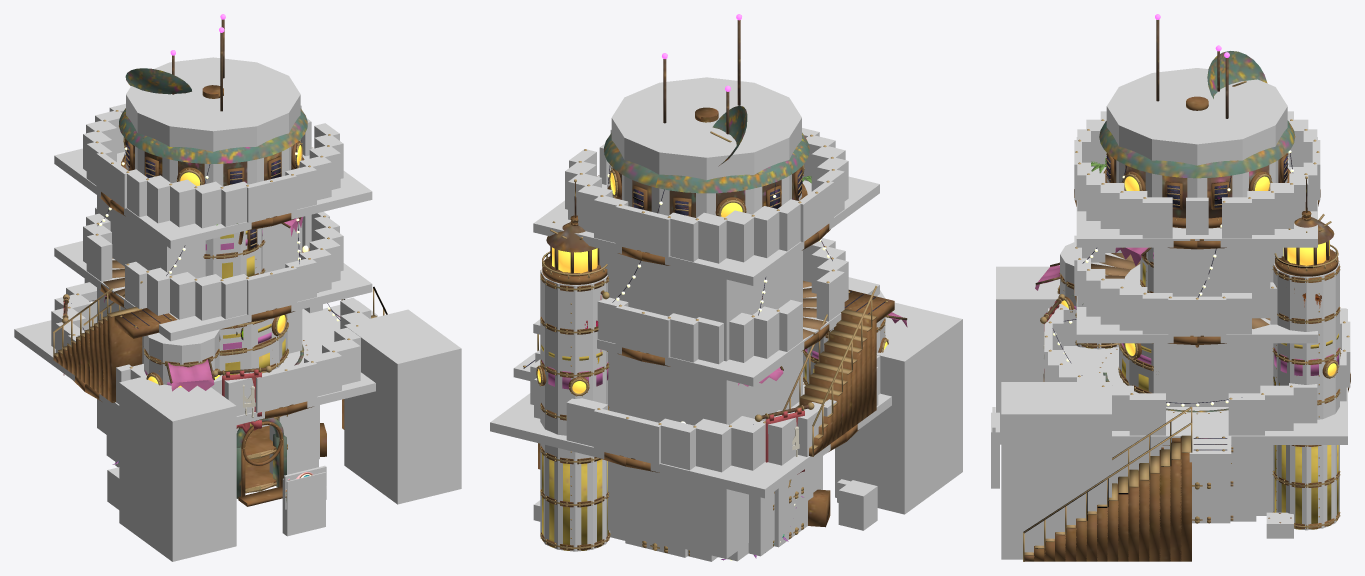
File: lookout_tower.glb
The picture shows the model from 3 angles, left to right: view 1: azimuth 30°, elevation 25°; view 2: azimuth 150°, elevation 25°; view 3: azimuth 270°, elevation 25°; orthographic projection. The views are drawn at different scales.
Parts seen in each view (by area): view 1: col_bld_POST_streetlamp_warm_i.001, col_bld_POST_streetlamp_warm_i, lookout_tower_body_a, col_bld_lookout_tower_pod, lookout_tower_body_b, col_bld_lookout_tower_pipes, col_deck_lookout_tower_deck3, col_deck_lookout_tower_deck1, col_deck_lookout_tower_deck2, col_bld_lookout_tower_SIGN_t_sign_posts, col_bld_lookout_tower_T_pod2, lookout_tower_plain (+35 smaller); view 2: col_bld_lookout_tower_pipes, lookout_tower_body_a, col_bld_POST_streetlamp_warm_i.001, col_bld_lookout_tower_pod, col_bld_lookout_tower_T_stack, lookout_tower_body_b, col_deck_lookout_tower_deck1, col_deck_lookout_tower_deck3, col_deck_lookout_tower_deck2, lookout_tower_plain, col_bld_PROP_barrel_i.012, col_bld_lookout_tower_deck1_8 (+35 smaller); view 3: lookout_tower_body_b, col_bld_POST_streetlamp_warm_i, col_bld_lookout_tower_pod, col_bld_lookout_tower_pipes, col_bld_lookout_tower_T_stack, col_bld_POST_streetlamp_warm_i.001, col_deck_lookout_tower_deck1, col_deck_lookout_tower_deck3, lookout_tower_body_a, col_deck_lookout_tower_deck2, lookout_tower_plain, col_bld_lookout_tower_T_base_0 (+35 smaller).
Part boxes in pixels (x1,y1,x2,y2): col_bld_POST_streetlamp_warm_i.001: (119,376,236,561); col_bld_POST_streetlamp_warm_i: (344,309,461,504); lookout_tower_body_a: (53,32,287,506); col_bld_lookout_tower_pod: (126,57,300,186); lookout_tower_body_b: (121,19,387,506); col_bld_lookout_tower_pipes: (97,195,302,434); col_deck_lookout_tower_deck3: (54,147,372,248); col_deck_lookout_tower_deck1: (14,309,375,424); col_deck_lookout_tower_deck2: (54,241,372,341); col_bld_lookout_tower_SIGN_t_sign_posts: (282,472,325,536); col_bld_lookout_tower_T_pod2: (144,329,219,384); lookout_tower_plain: (71,14,340,502); col_bld_lookout_tower_pipes: (599,248,802,558); lookout_tower_body_a: (626,20,907,560); col_bld_POST_streetlamp_warm_i.001: (835,302,962,514); col_bld_lookout_tower_pod: (611,77,801,217); col_bld_lookout_tower_T_stack: (540,268,610,551); lookout_tower_body_b: (523,59,807,550); col_deck_lookout_tower_deck1: (490,382,891,498); col_deck_lookout_tower_deck3: (533,175,879,285); col_deck_lookout_tower_deck2: (533,277,879,386); lookout_tower_plain: (523,14,887,560); col_bld_PROP_barrel_i.012: (838,480,877,530); col_bld_lookout_tower_deck1_8: (693,418,733,472); lookout_tower_body_b: (1023,58,1350,561); col_bld_POST_streetlamp_warm_i: (1001,382,1111,559); col_bld_lookout_tower_pod: (1106,68,1287,197); col_bld_lookout_tower_pipes: (1153,247,1283,506); col_bld_lookout_tower_T_stack: (1273,261,1339,530); col_bld_POST_streetlamp_warm_i.001: (996,266,1059,444); col_deck_lookout_tower_deck1: (1063,309,1347,444); col_deck_lookout_tower_deck3: (1076,137,1317,247); lookout_tower_body_a: (1035,20,1350,374); col_deck_lookout_tower_deck2: (1076,253,1317,343); lookout_tower_plain: (1043,14,1341,450); col_bld_lookout_tower_T_base_0: (1193,462,1230,523).
Size of the model in its own units: 9.48 by 13.77 by 9.55.
Materials: 26 (9 with a texture image).
